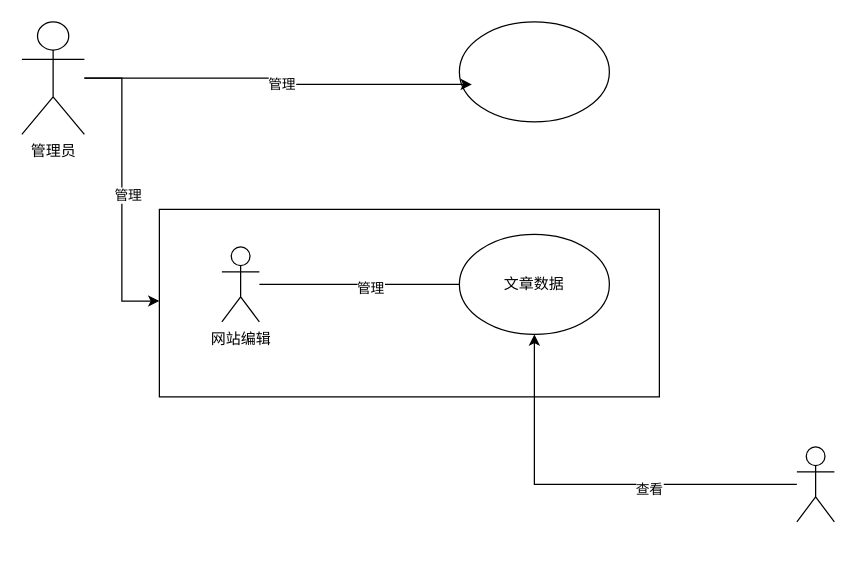
Some shapes in this 868 by 570 pixel diagram are drawn without their labels. The shapes that lost their labels are listed below. From the top down, each one's centre as x and y in pixels, then its label:
At (x=533, y=71): "栏目".
At (x=815, y=484): "普通用户".
